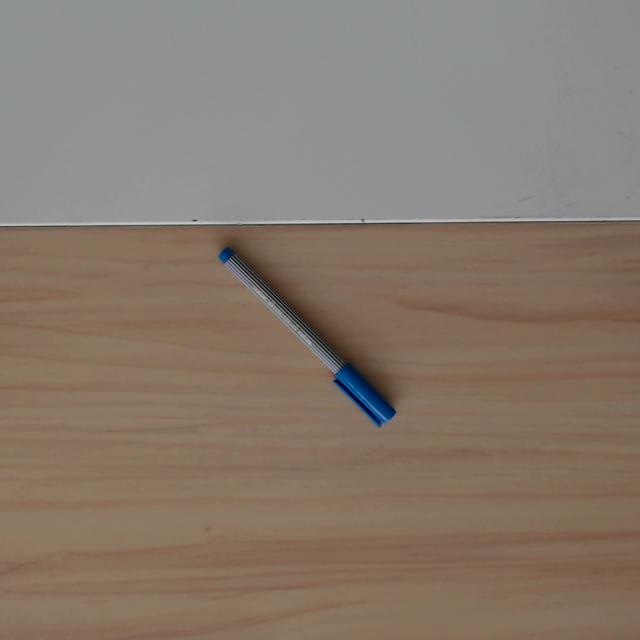Pulpen-Garis-Biru: (213, 241, 399, 432)
